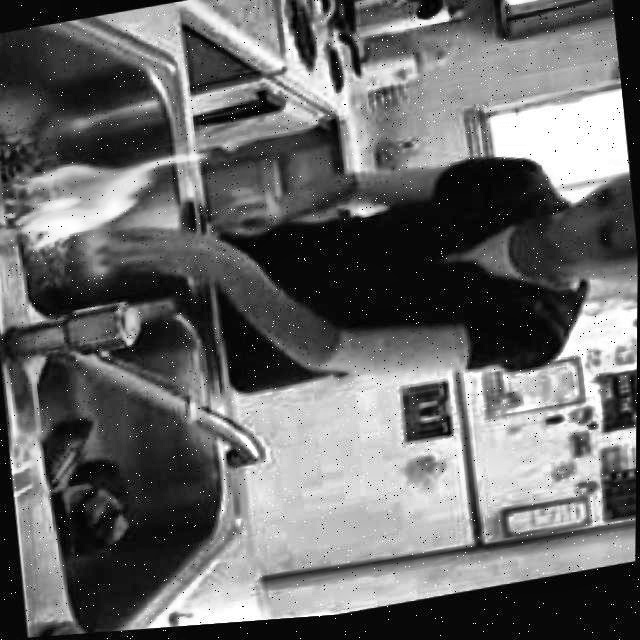Fire: (9, 137, 215, 251)
